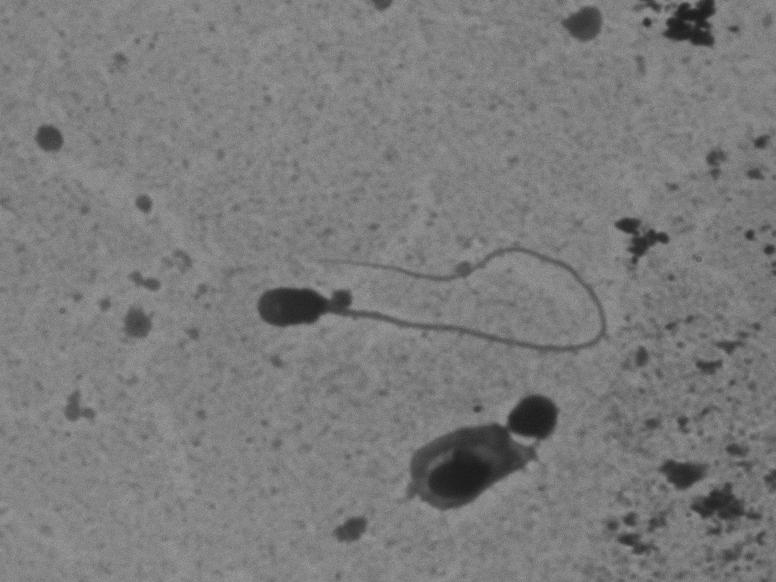Abnormal: (235, 210, 619, 364), (378, 386, 579, 546)
